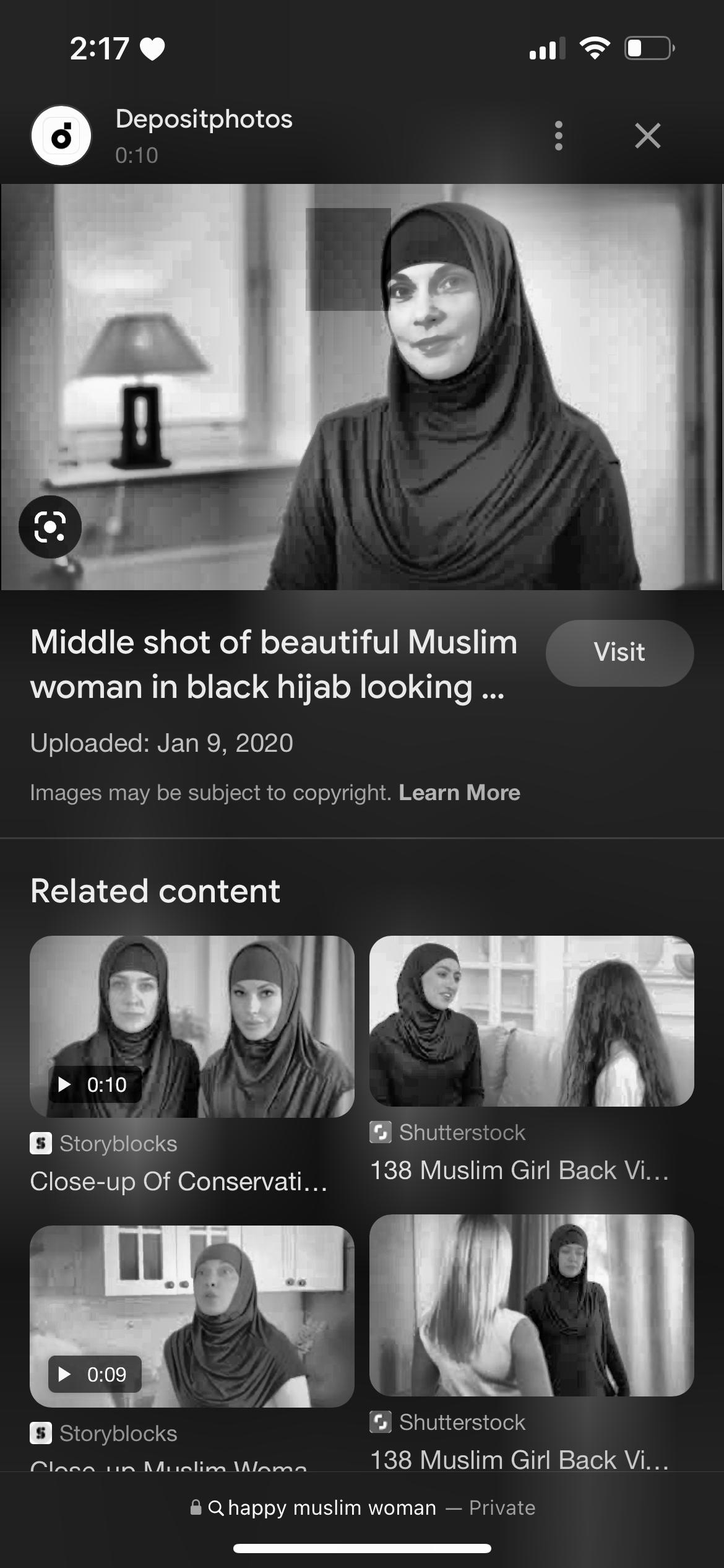happy: (378, 257, 484, 385)
